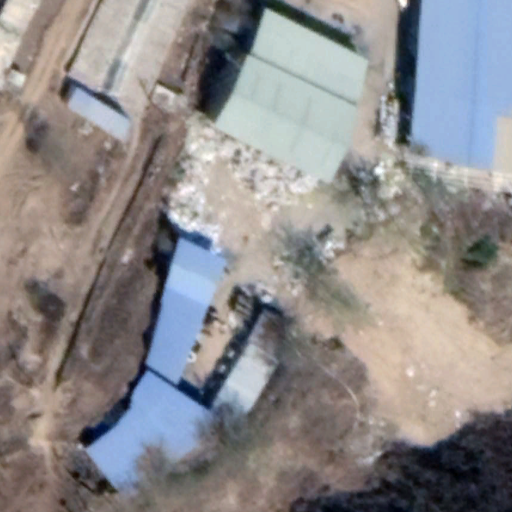msw: (165, 120, 311, 251)
